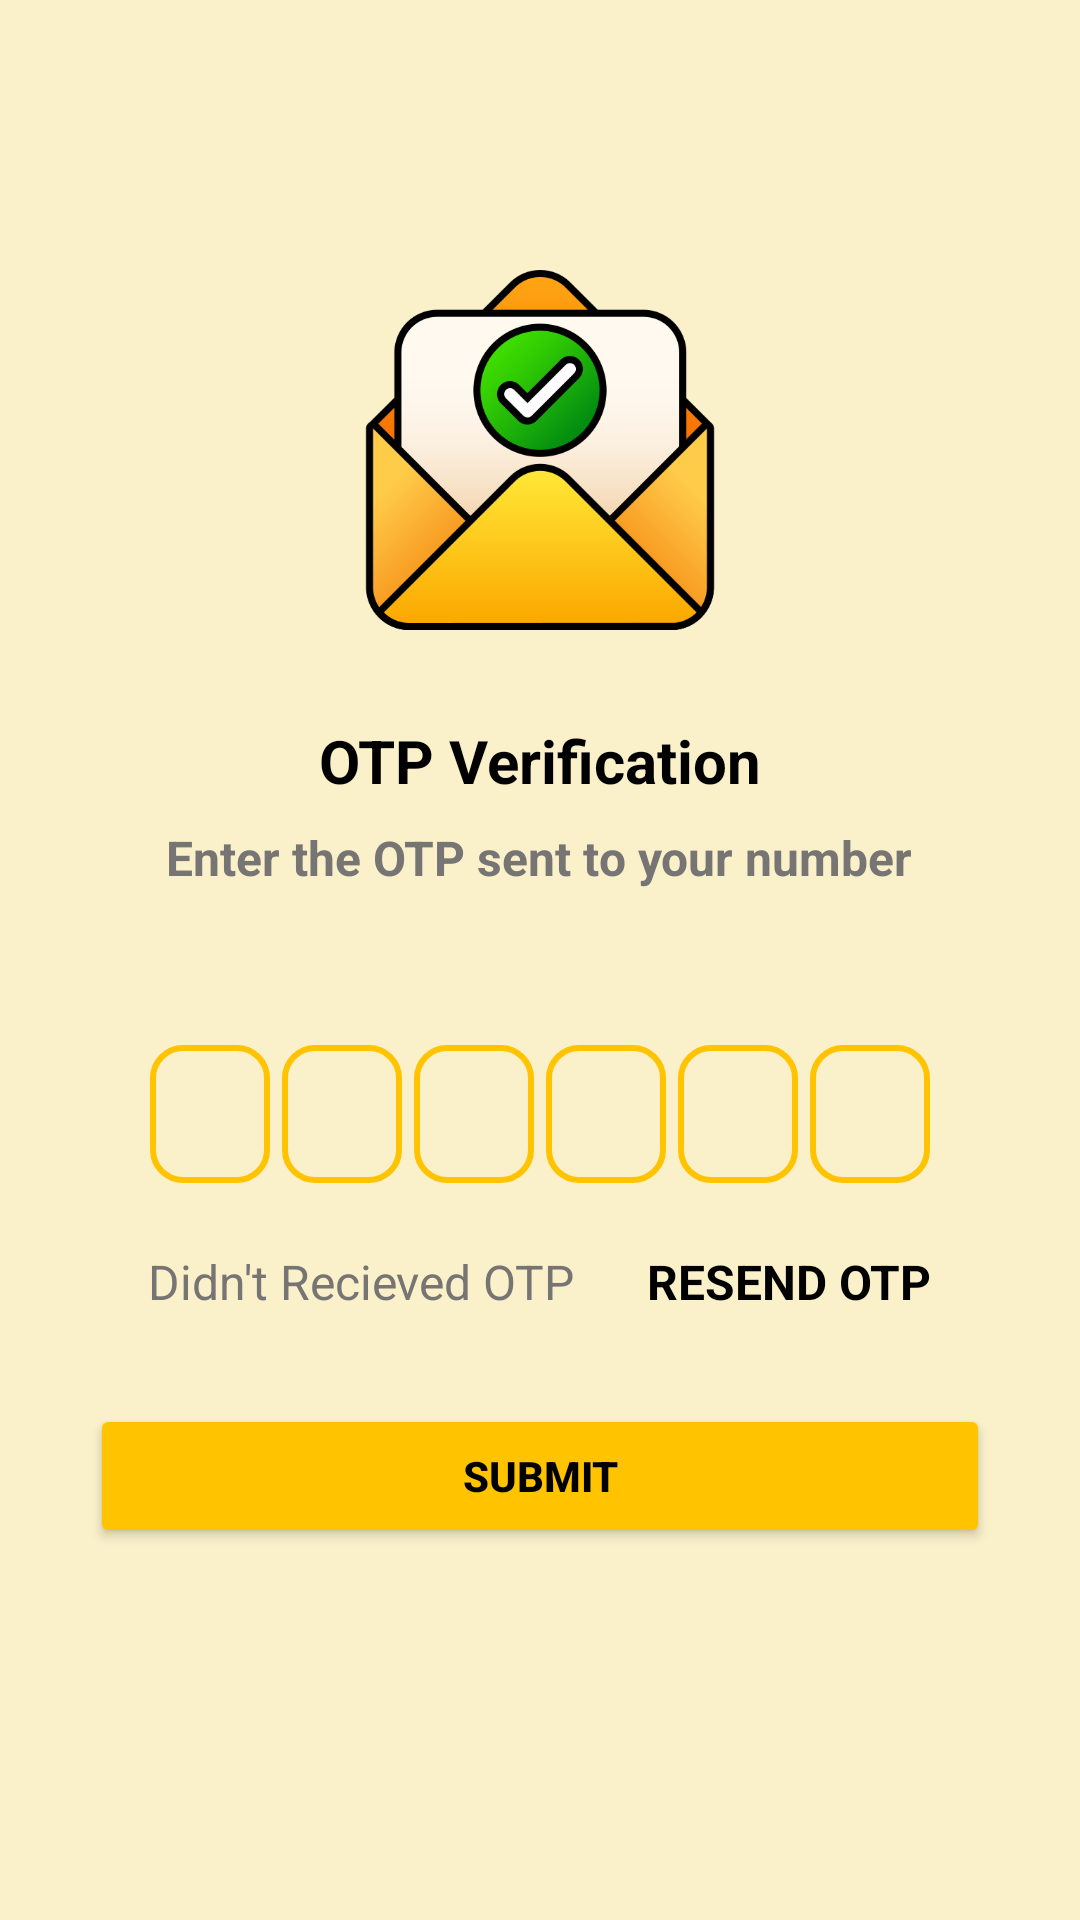

Where to tap for icons on this 1080px x 1920px app screen, as (x=x, y=y):
recieve mail: (x=540, y=450)
